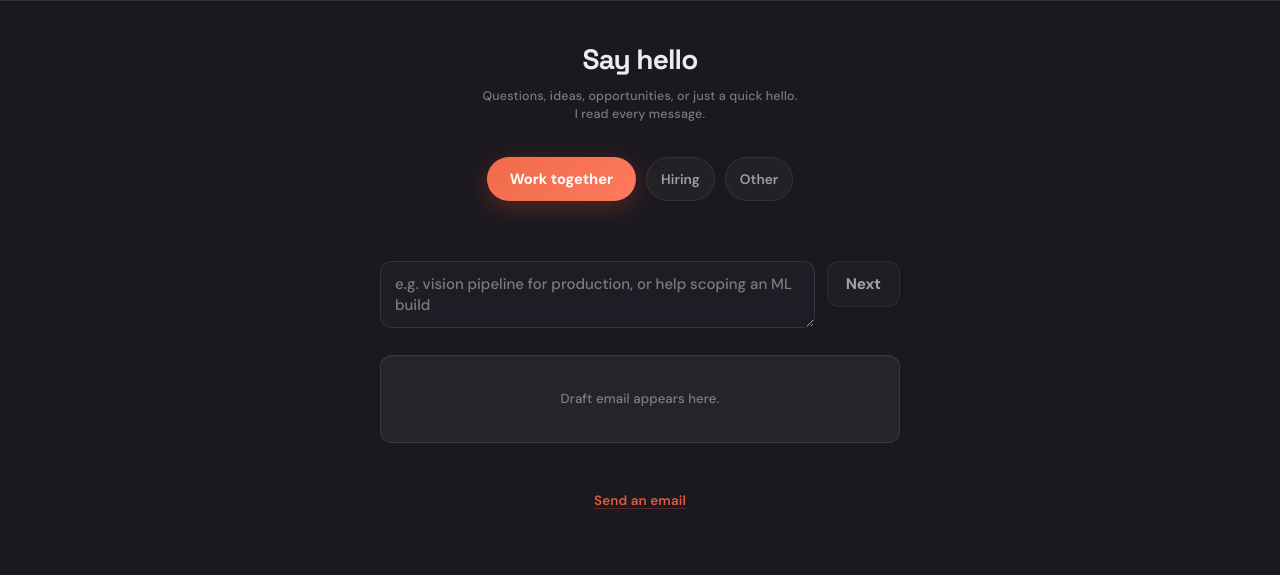
Contact › shows a user-friendly error when preview API returns 500
Type "I am exploring a collaboration around production AI systems." into the text box titled "your message". click: (597, 295)
box: [380,261,815,328]
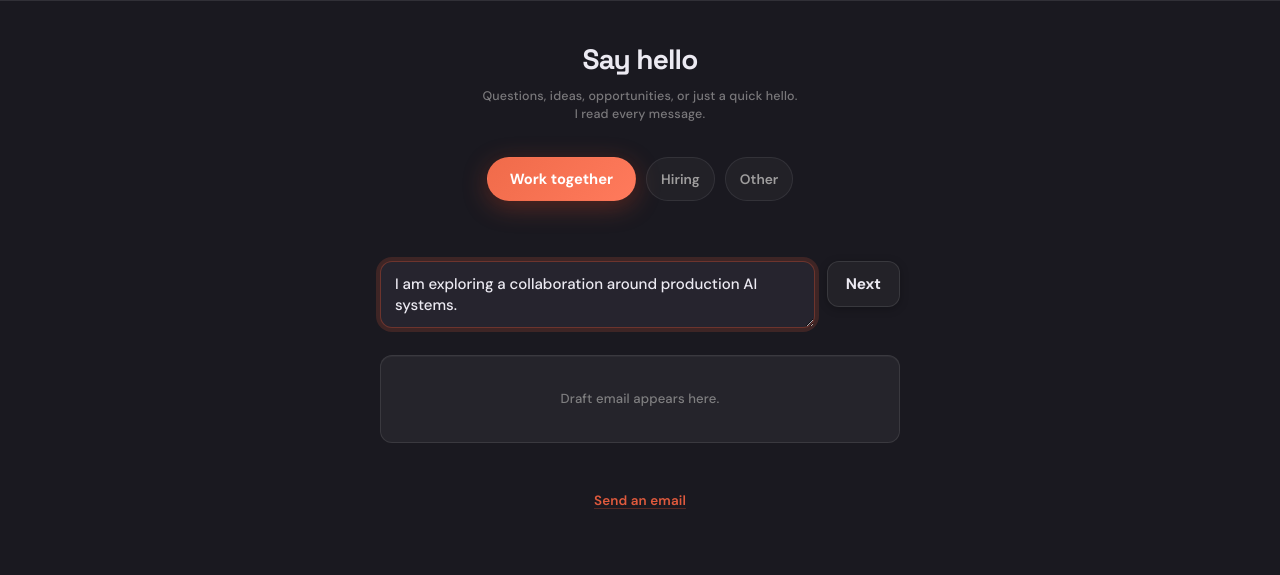
Click the button "Next". click: (863, 284)
box: [827,261,900,307]
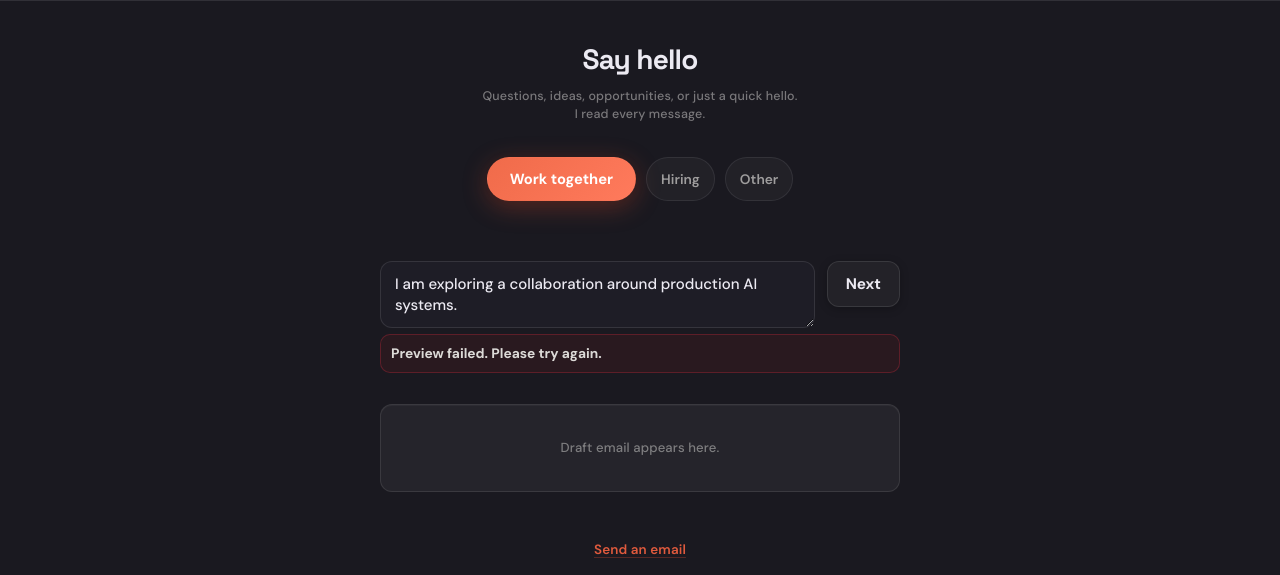
Expected: the text "Preview failed. Please try again." is shown, [391,344,602,362]
